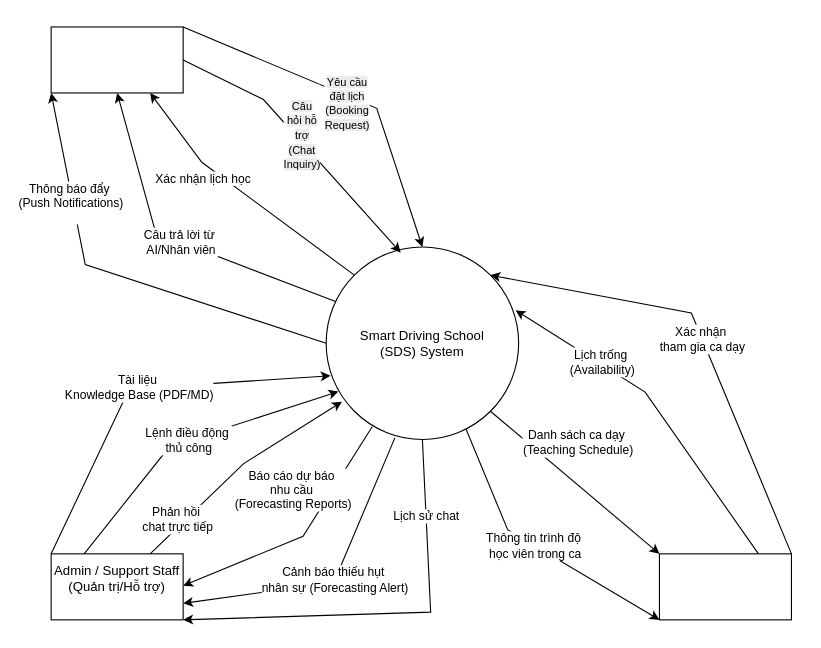
Image size: 821x648. Some labels were removed from this diagram. The box of each missing label's shape, as (x1, y1, x2, y2) in pixels:
Instructor (Giảng viên): (658, 553, 791, 620)
Learner Driver (Học viên): (50, 26, 183, 93)
